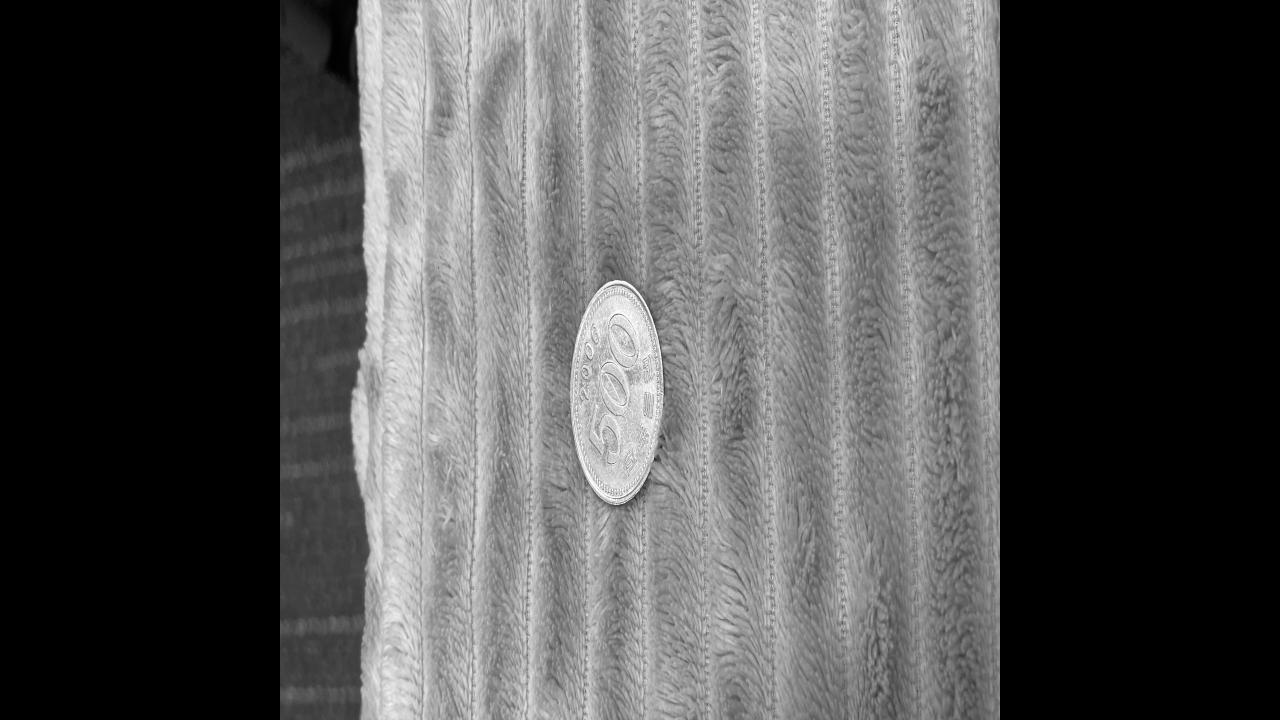coin: (569, 272, 666, 506)
